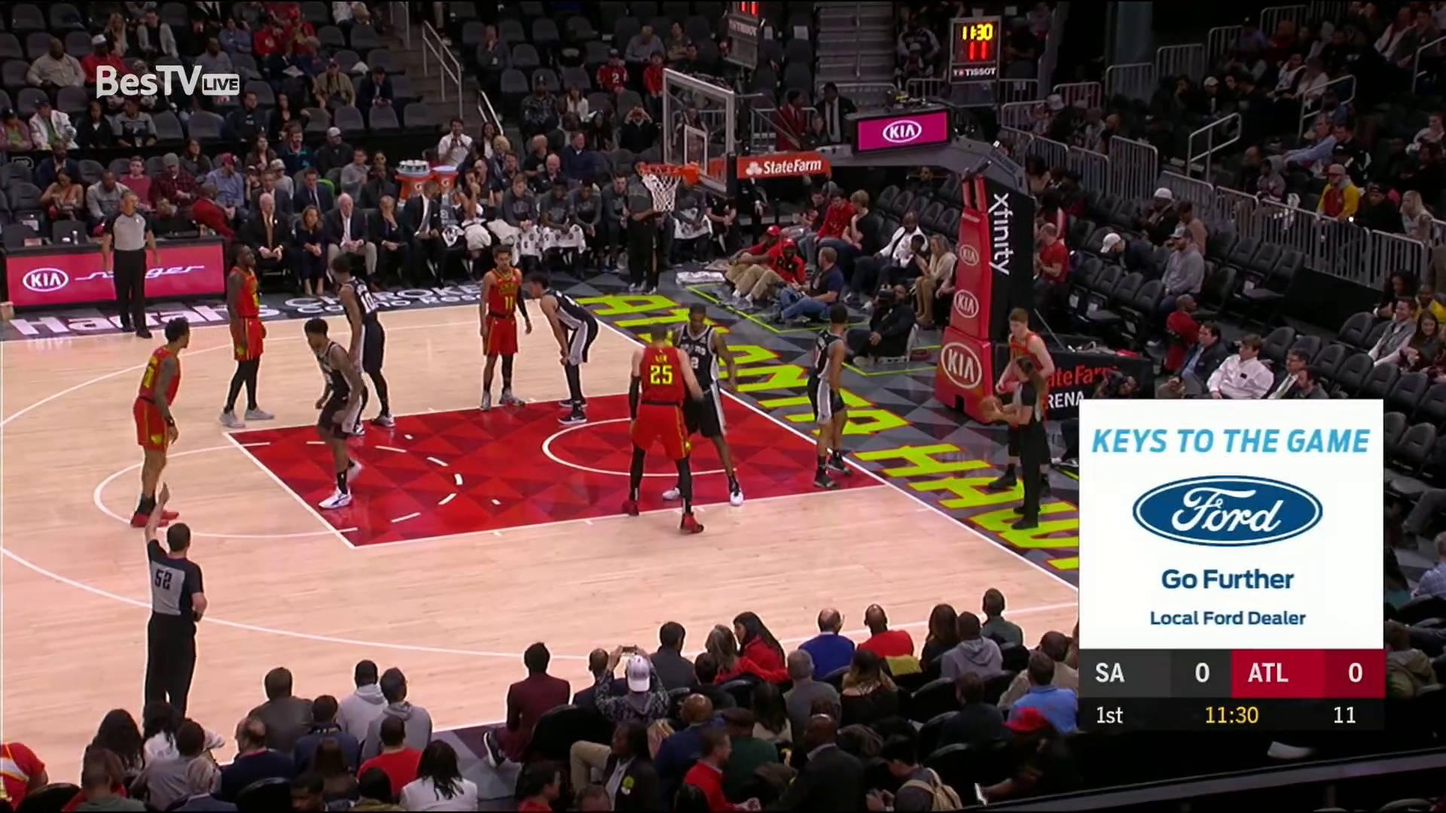basketball: (975, 393, 1001, 420)
